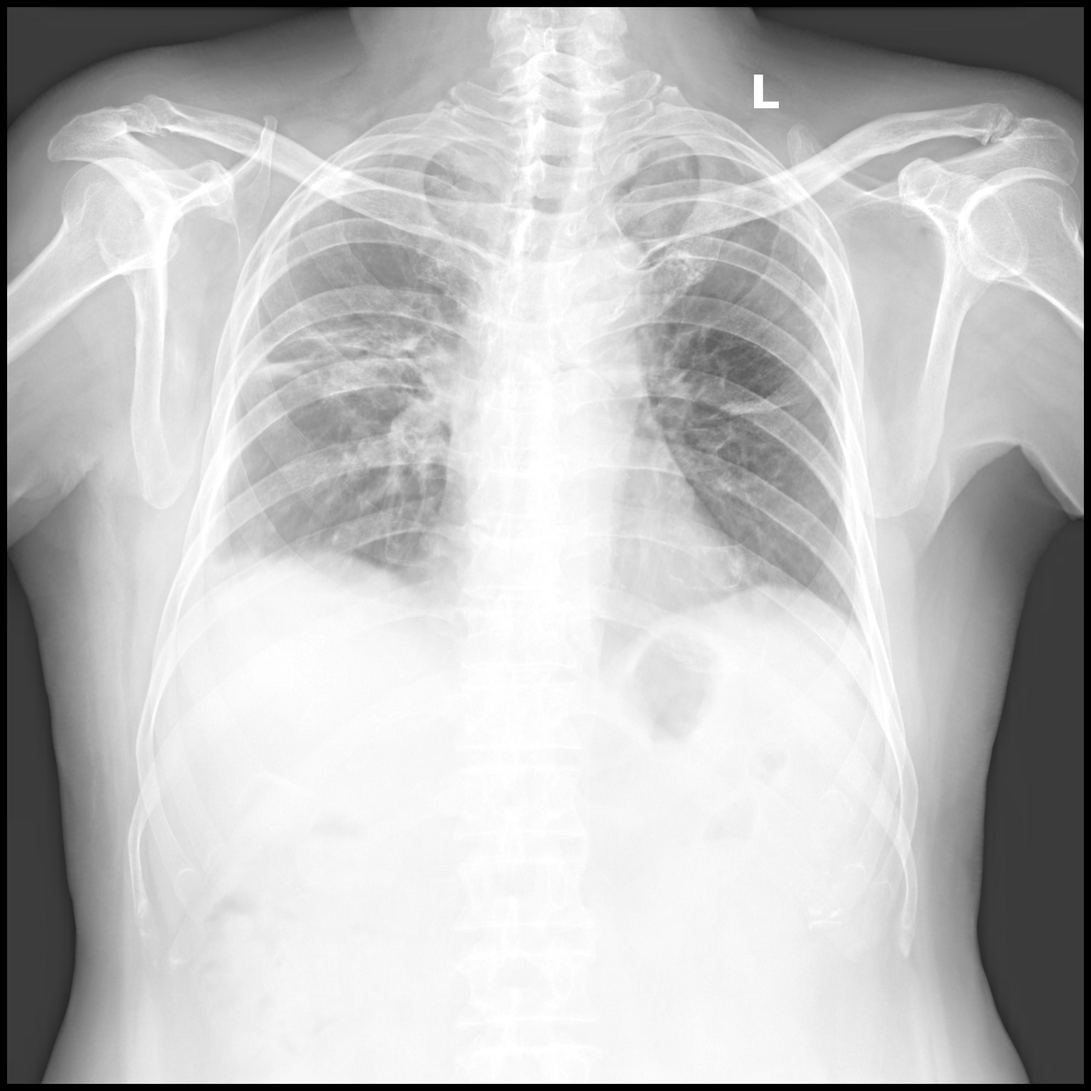Pleural thickening: (192, 530, 305, 601)
Pulmonary fibrosis: (241, 312, 424, 394), (324, 434, 430, 556)
